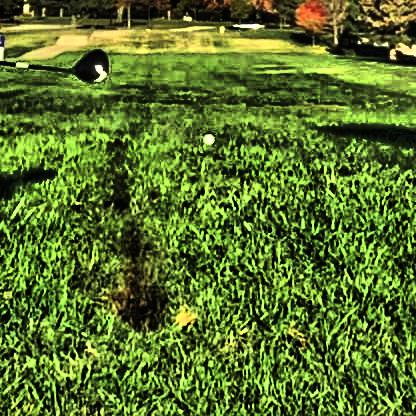golfball: (199, 130, 214, 144)
